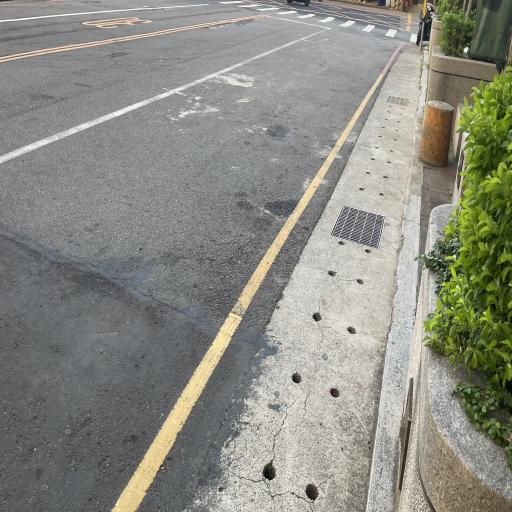redline: (383, 38, 406, 72)
yellowline: (102, 71, 389, 512)
